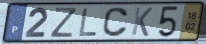2: (24, 6, 50, 39)
5: (156, 5, 181, 39)
C: (101, 6, 130, 38)
K: (130, 6, 154, 38)
L: (78, 7, 99, 37)
Z: (49, 6, 79, 39)
